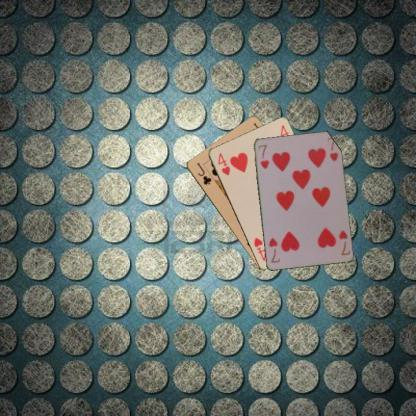4h: (215, 150, 231, 177)
7h: (336, 227, 351, 257), (255, 142, 270, 170)
Jc: (194, 160, 213, 186)
